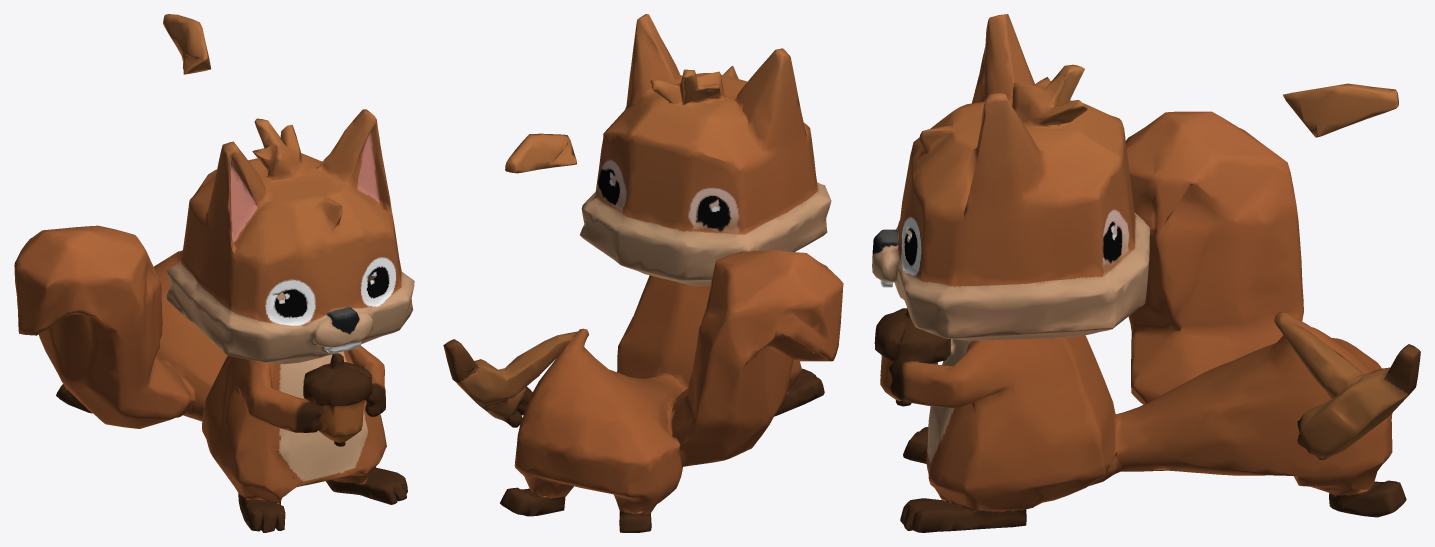
File: squirrel-web.glb
3 renders of one model, left to right at view 1: azimuth 30°, elevation 25°; view 2: azimuth 150°, elevation 25°; view 3: azimuth 270°, elevation 25°, orthographic. The views are drawn at different scales.
Bounding box in the file's own units: 0.7259 × 0.8684 × 0.9701.
1 material, 1 textured.
